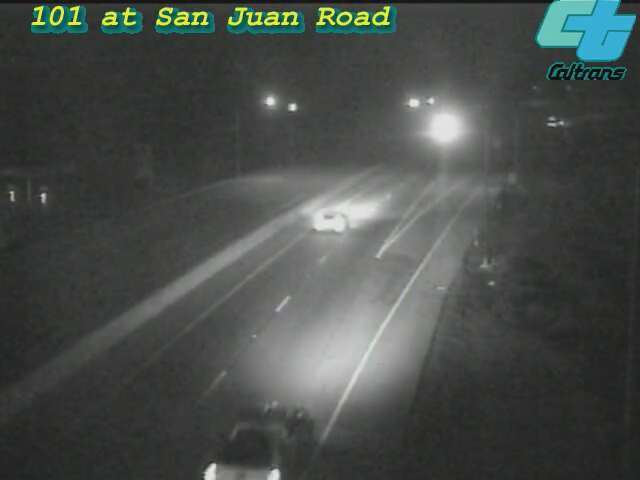vehicle: (225, 374, 335, 480), (294, 179, 374, 259), (418, 104, 468, 154), (532, 96, 582, 146)
